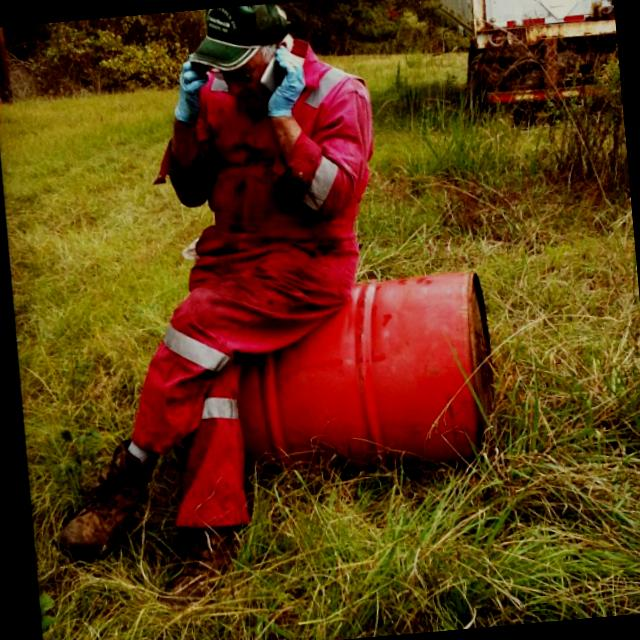Vehicle: (455, 0, 623, 129)
